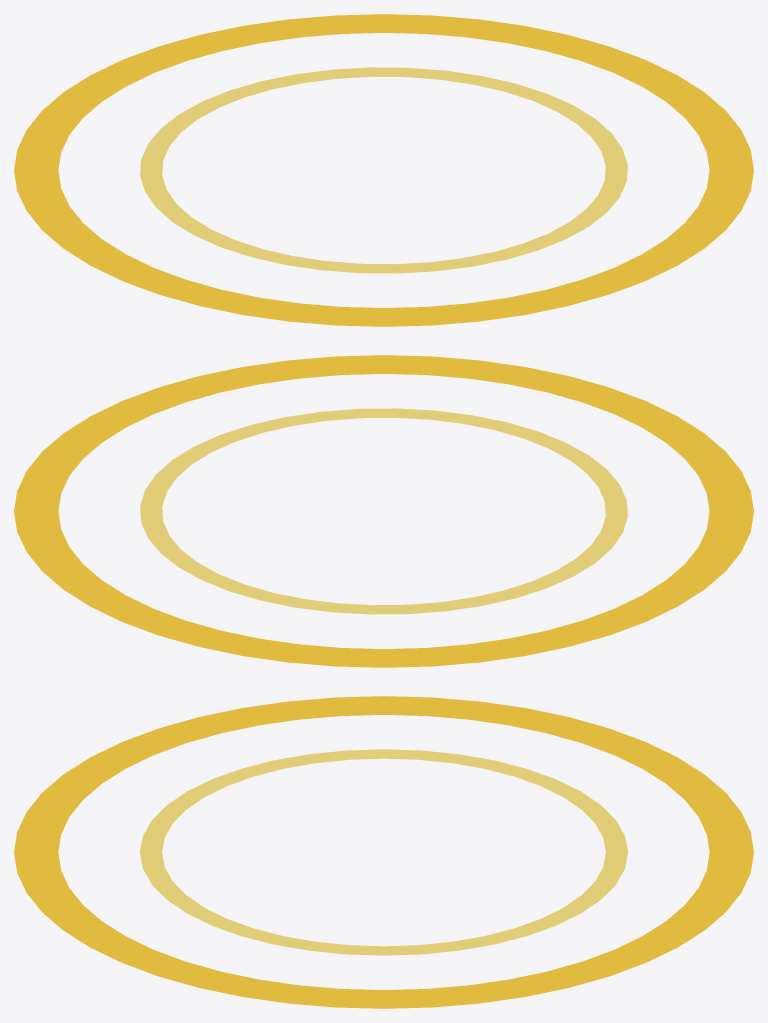
File: target_ring.glb
3 views of the same model, one above another, from view 1: azimuth 30°, elevation 25°; view 2: azimuth 150°, elevation 25°; view 3: azimuth 270°, elevation 25° (orthographic).
Visible parts, largest first — view 1: pv3_ring_outer, pv3_ring_inner; view 2: pv3_ring_outer, pv3_ring_inner; view 3: pv3_ring_outer, pv3_ring_inner.
Part boxes in pixels (<box>): pv3_ring_outer: <box>14,14,753,326</box>; pv3_ring_inner: <box>140,67,627,273</box>; pv3_ring_outer: <box>14,355,753,667</box>; pv3_ring_inner: <box>140,408,627,614</box>; pv3_ring_outer: <box>14,696,753,1008</box>; pv3_ring_inner: <box>140,749,627,955</box>.
Size of the model in its own units: 1 by 0 by 1.
